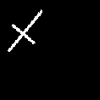single_crochet: (8, 10, 41, 51)
